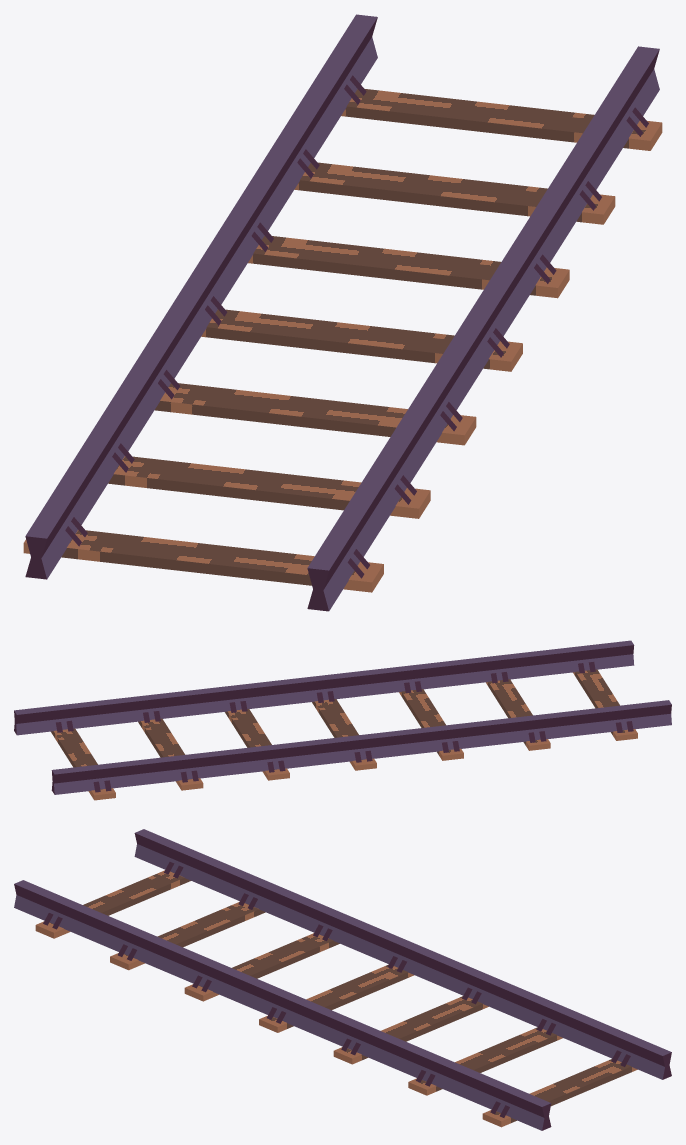
Rendered from track_diagonal.glb.
3 views of the same model, one above another, from view 1: azimuth 30°, elevation 25°; view 2: azimuth 150°, elevation 25°; view 3: azimuth 270°, elevation 25° (orthographic). The views are drawn at different scales.
Visible parts, largest first — view 1: track_diagonal; view 2: track_diagonal; view 3: track_diagonal.
Boxes of the visible parts, x1,y1,x2,y2 form: track_diagonal: (23,14,662,611); track_diagonal: (14,640,671,800); track_diagonal: (14,829,671,1130).
Size of the model in its own units: 6.24 by 0.3088 by 6.24.
1 material, 1 textured.
